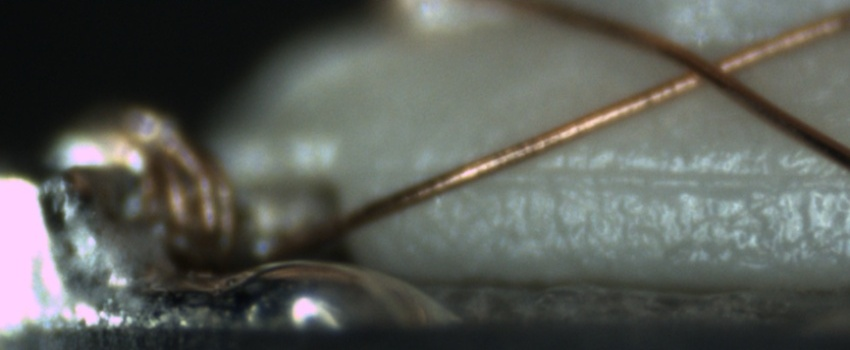CL: (661, 39, 751, 99)
DL: (467, 148, 850, 207)
TE: (37, 90, 245, 278)
